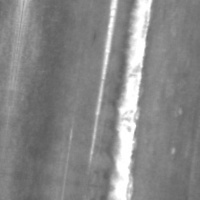scratches: (101, 0, 162, 192), (85, 0, 122, 174)
